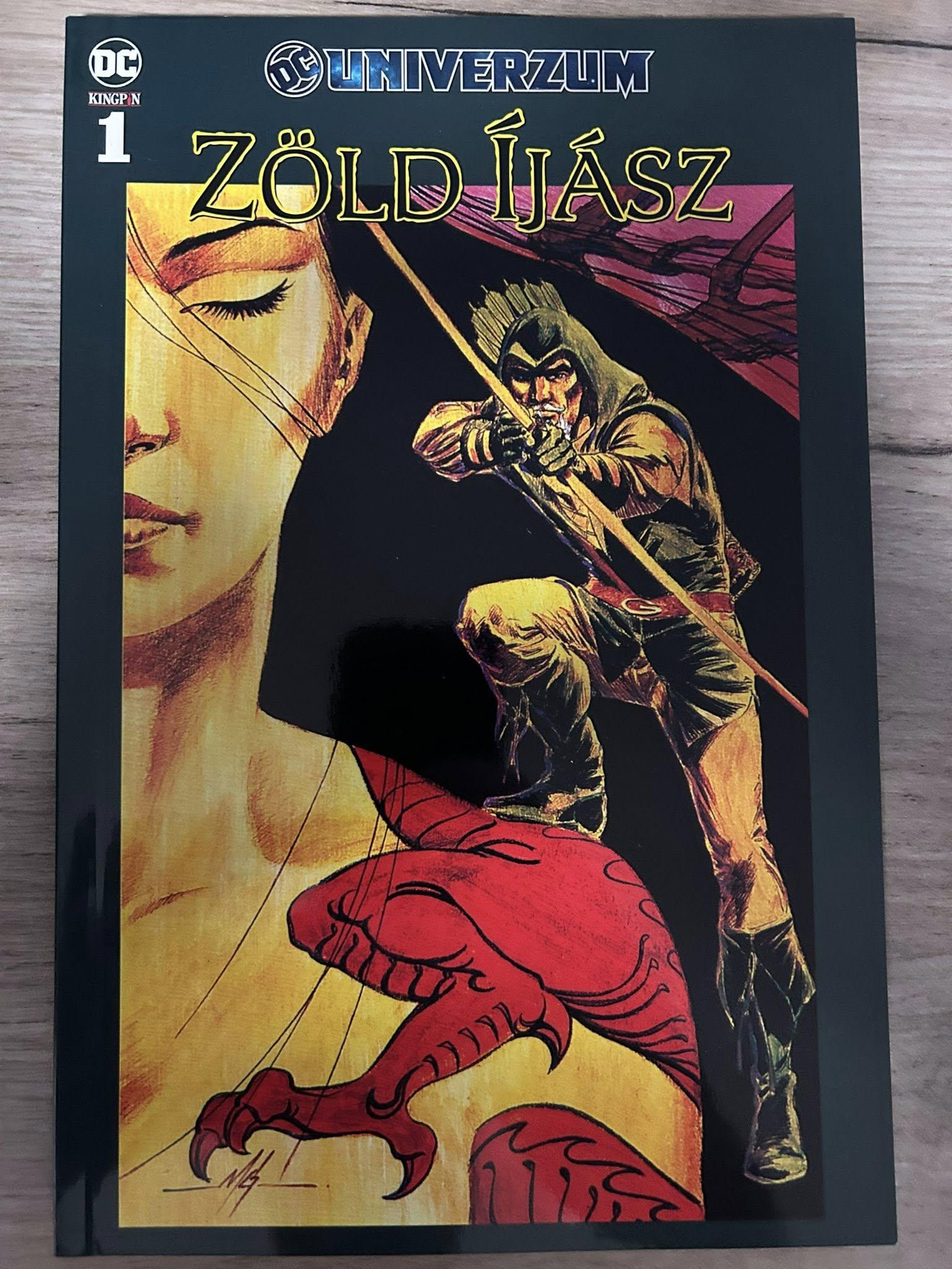comic: (53, 15, 894, 1254)
